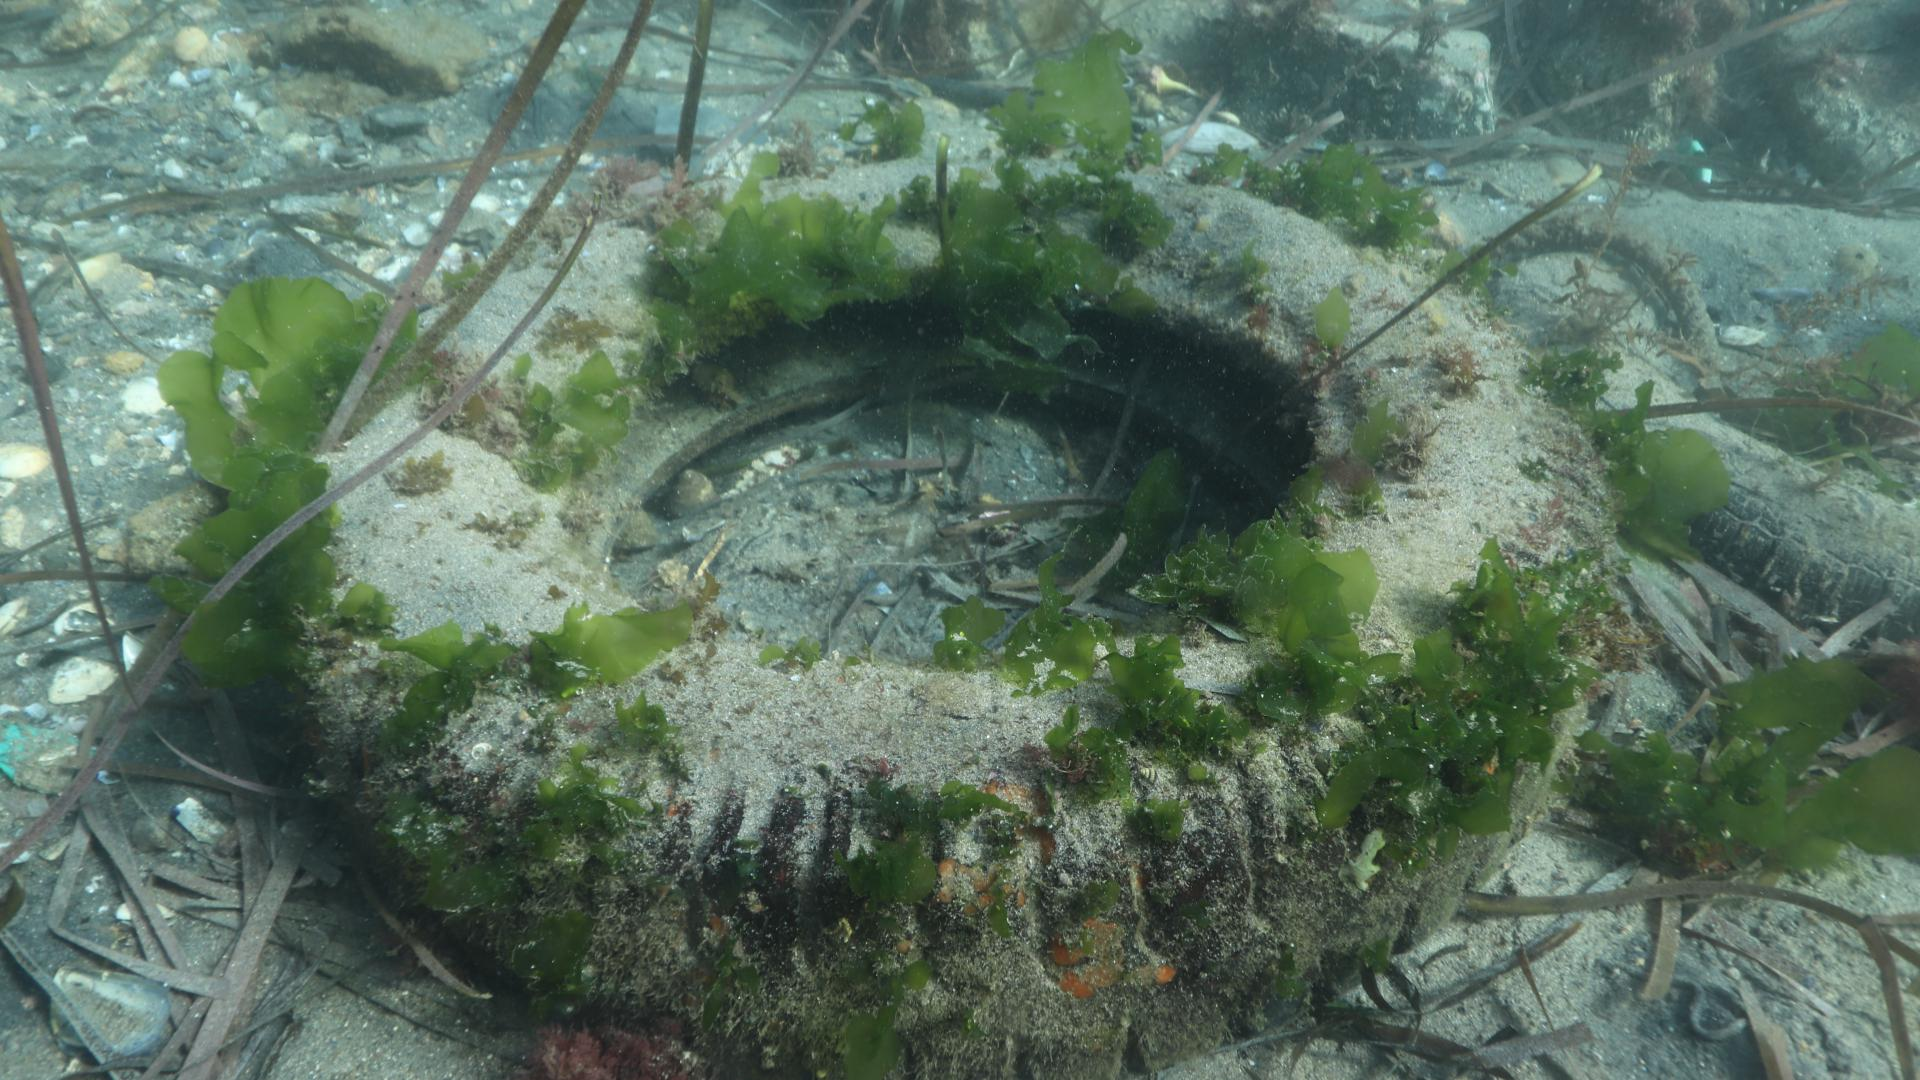rope: (1468, 211, 1724, 373)
tire: (281, 152, 1613, 1080)
